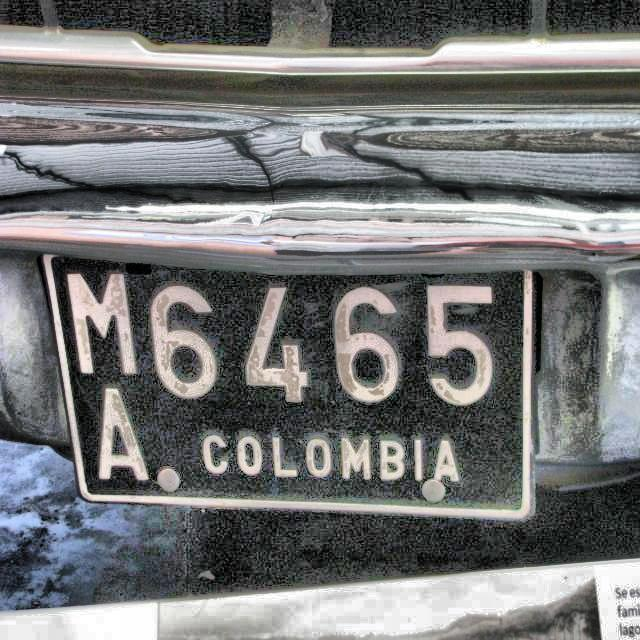plate: (45, 258, 528, 514)
